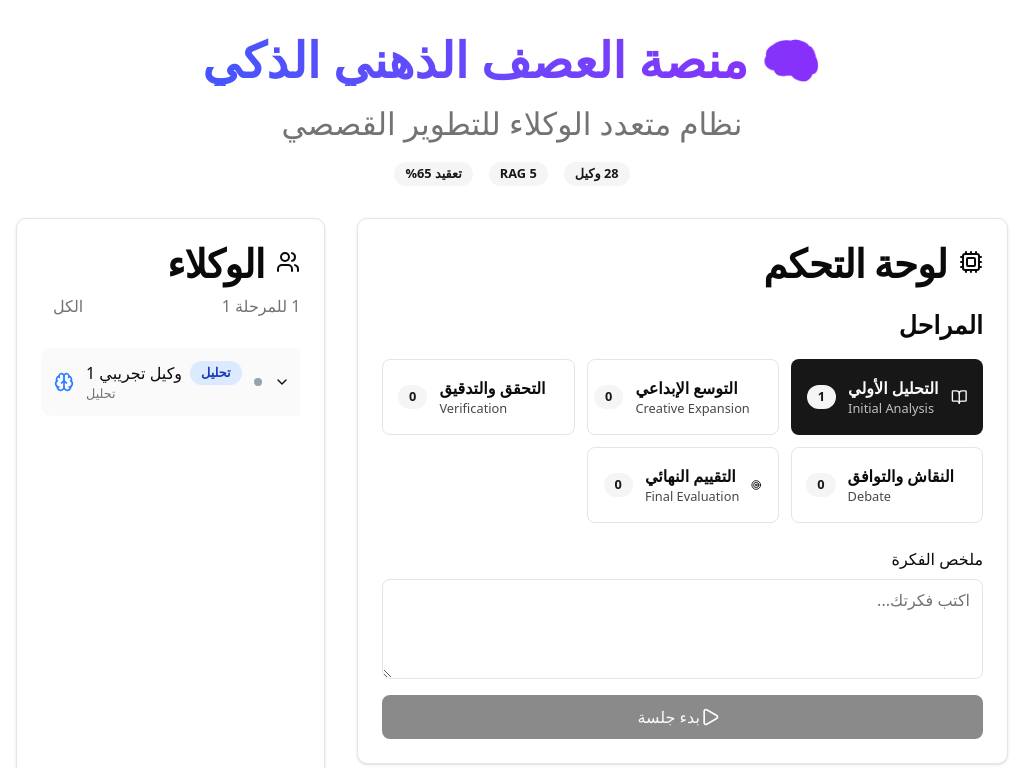
Test: BrainStormContent › معالجة الأخطاء › يظهر رسالة خطأ API key عند حالة 401
Type "فكرة تجريبية" into the text box with placeholder "اكتب فكرتك...".
click(683, 629); type("فكرة تجريبية")  # box [382, 579, 983, 679]
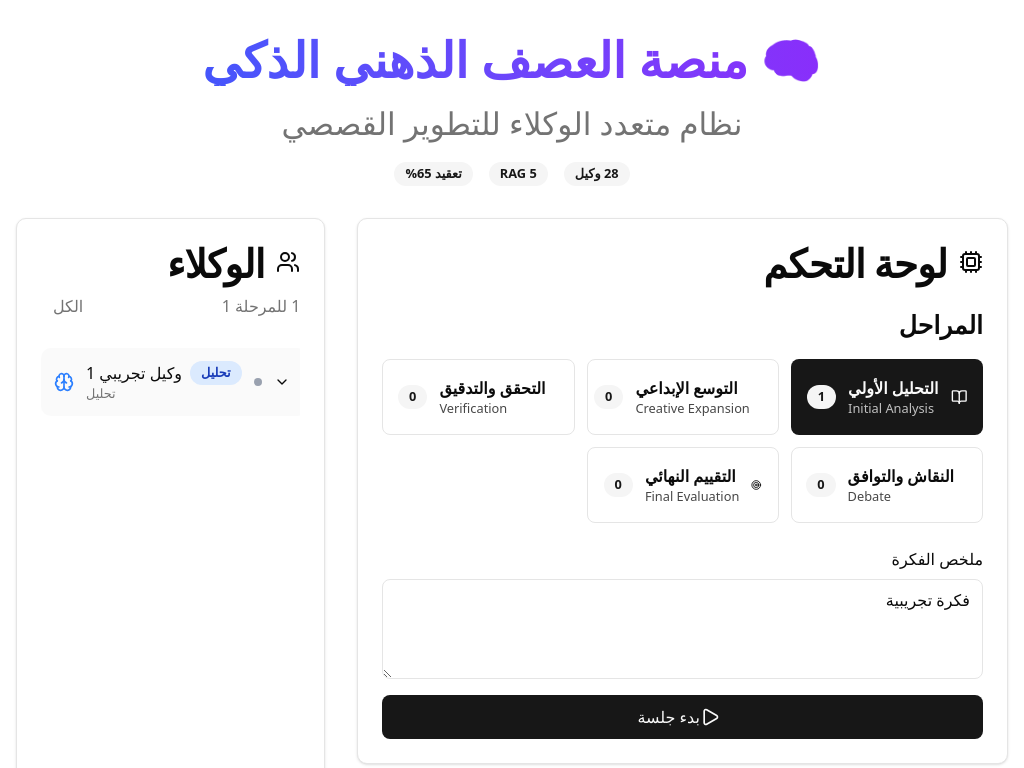
Click the button "بدء جلسة".
click(683, 717)  # box [382, 695, 983, 739]
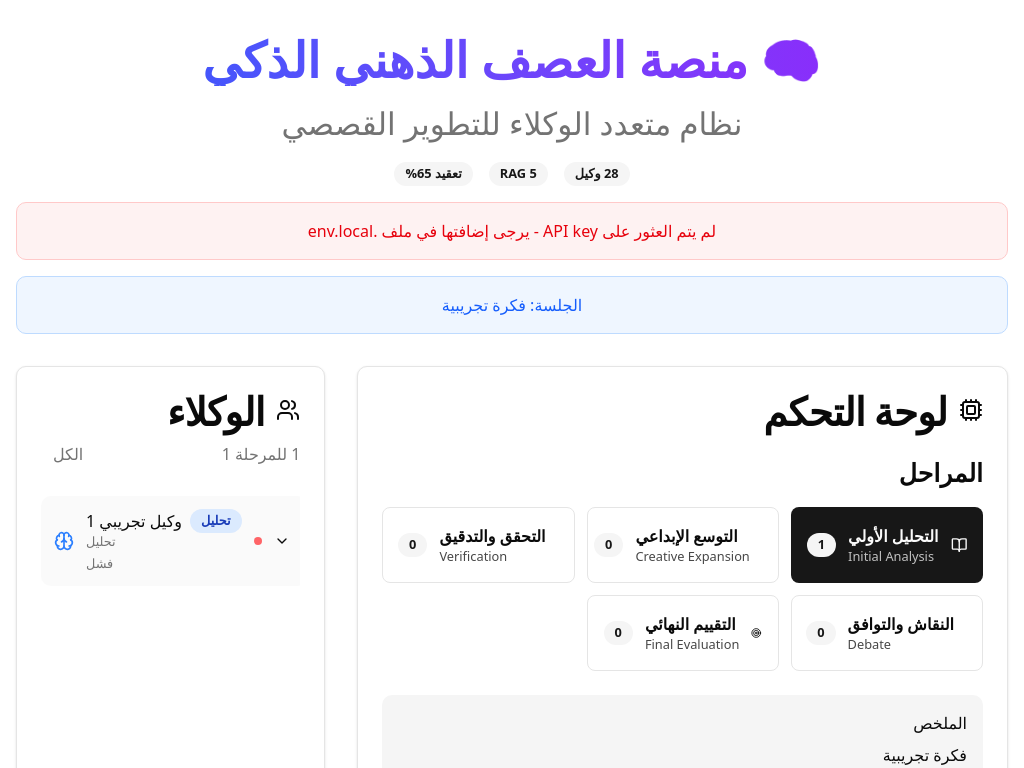
Expected: the text "لم يتم العثور على API key - يرجى إضافتها في ملف .env.local" is shown, [308, 220, 716, 242]
